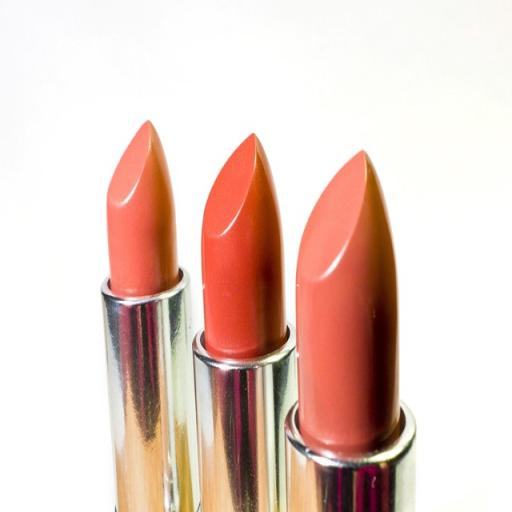lipstick: (285, 153, 415, 511), (193, 135, 296, 511), (102, 122, 199, 511)
